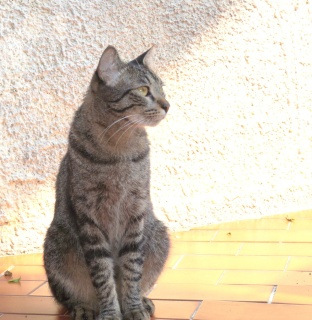Cat: (39, 45, 175, 320)
